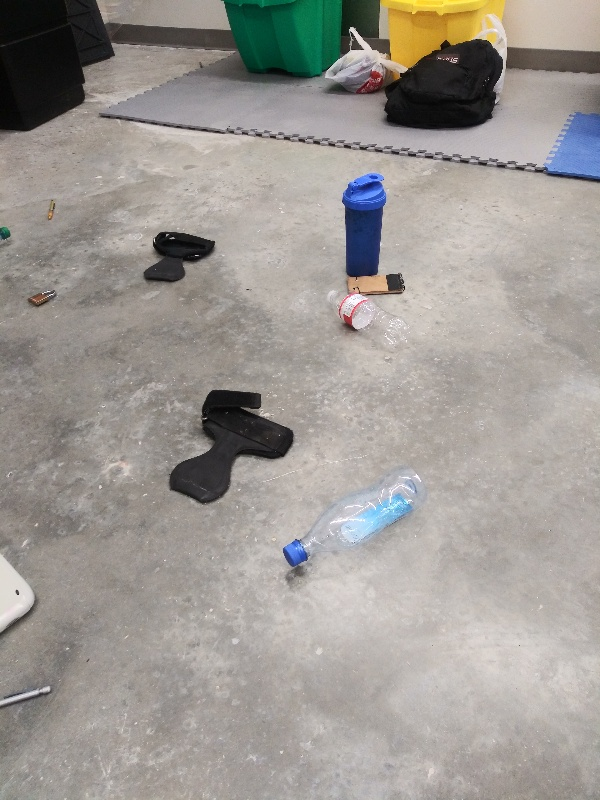bottle: (278, 467, 430, 591), (319, 285, 416, 360)
